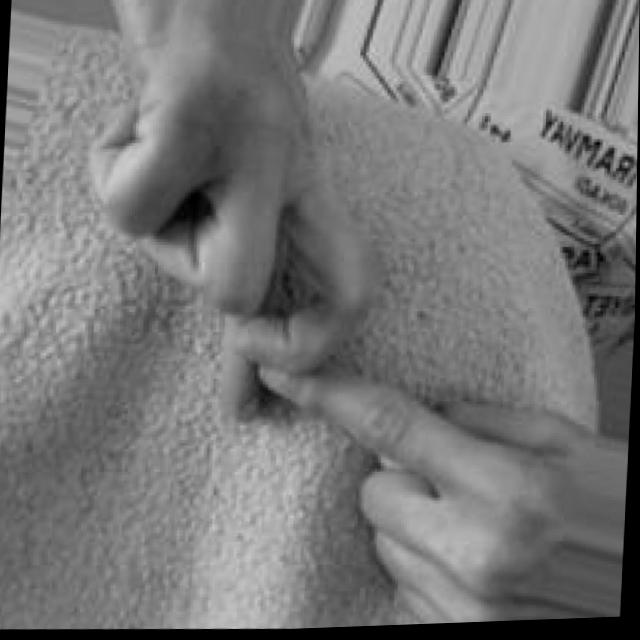R: (58, 52, 612, 638)
